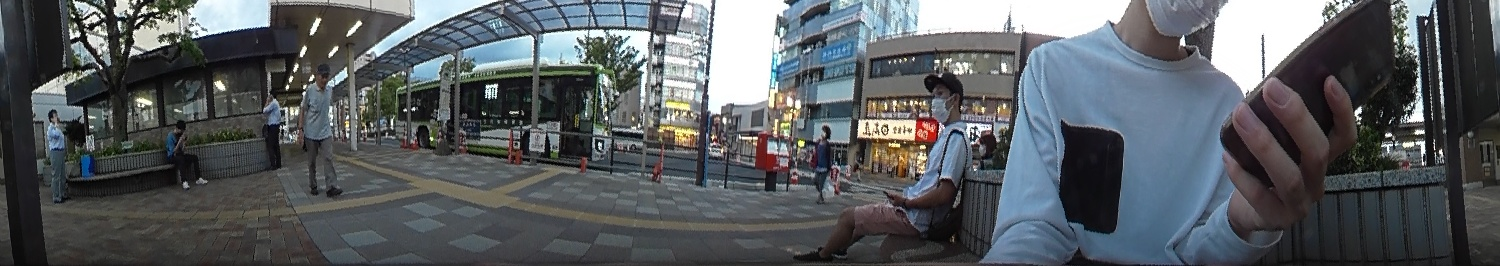difficult_person: (796, 64, 969, 260), (849, 150, 866, 180)
person: (298, 60, 341, 197), (41, 106, 73, 204), (161, 120, 204, 182), (257, 90, 287, 173), (807, 124, 834, 201)
